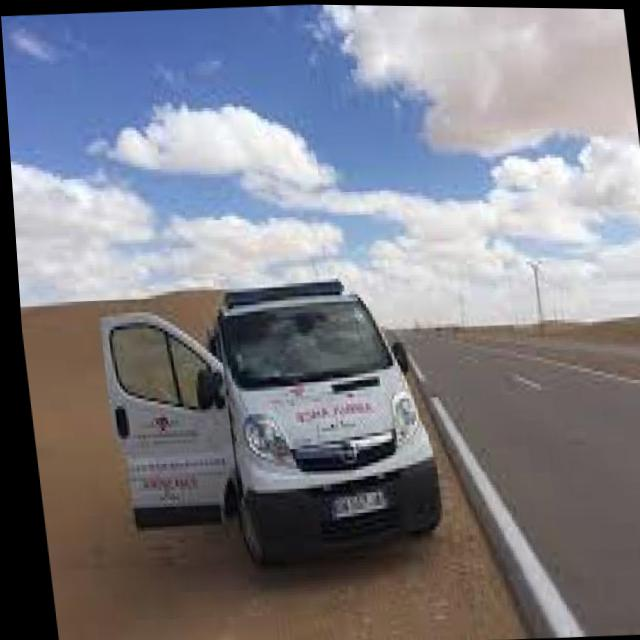ambulance: (171, 241, 454, 574)
